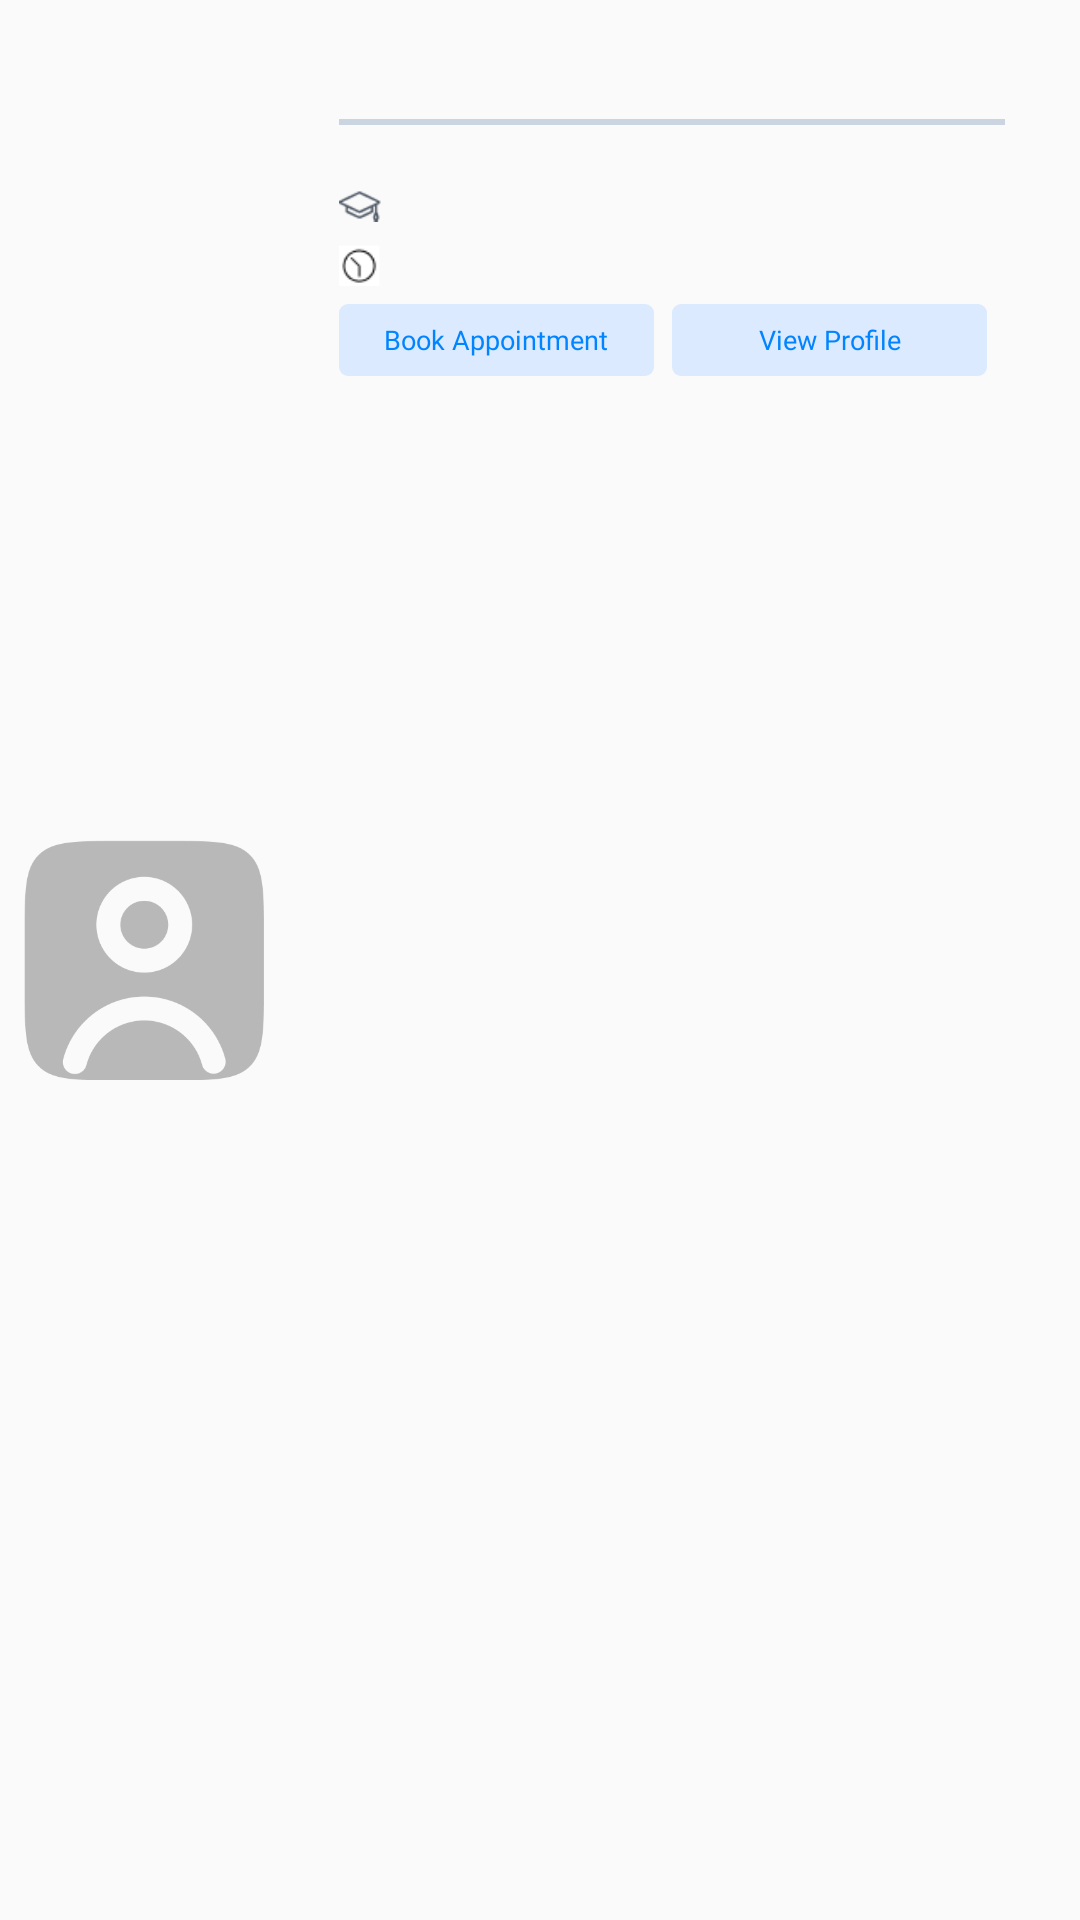

Locate icon controls on the screen. Image size 1080 × 1920, boxes as Rect(x1, y1, x2, y2).
degree: Rect(339, 191, 381, 222)
profile pic: Rect(25, 841, 264, 1080)
time: Rect(342, 249, 377, 283)
